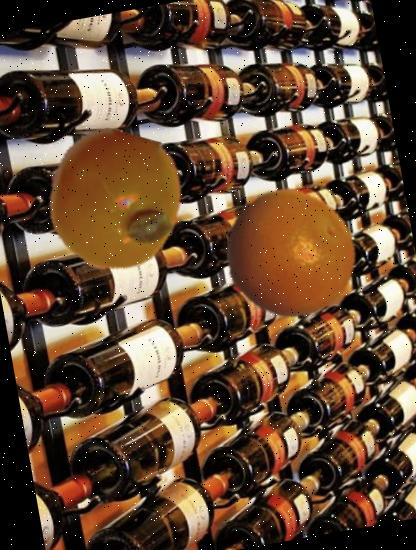Grapefruit: (212, 176, 367, 331)
Physalis: (34, 120, 195, 281)
